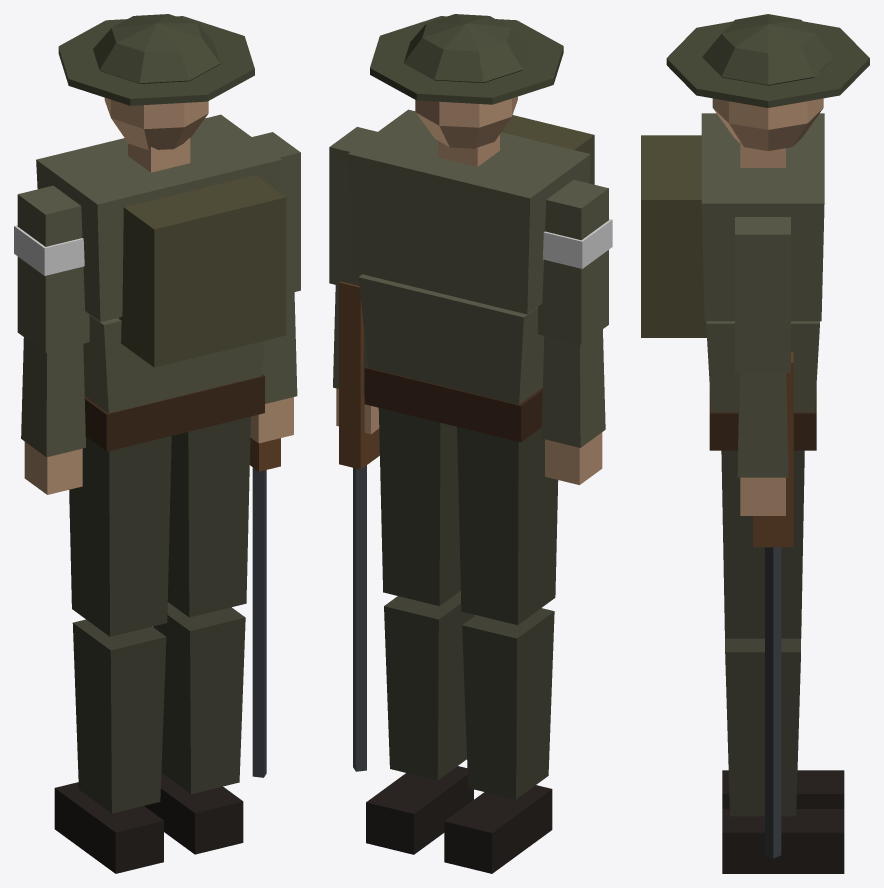
Rendered from soldier_c20_rifle_lod0.glb.
3 views of the same model, side by side, from view 1: azimuth 30°, elevation 25°; view 2: azimuth 150°, elevation 25°; view 3: azimuth 270°, elevation 25° (orthographic).
Visible parts, largest first — view 1: c20_rifle_lod0_static; view 2: c20_rifle_lod0_static; view 3: c20_rifle_lod0_static.
Boxes of the visible parts, x1,y1,x2,y2 form: c20_rifle_lod0_static: (14, 14, 300, 873); c20_rifle_lod0_static: (329, 14, 612, 873); c20_rifle_lod0_static: (641, 14, 869, 873).
Size of the model in its own units: 0.585 by 1.78 by 0.45.
